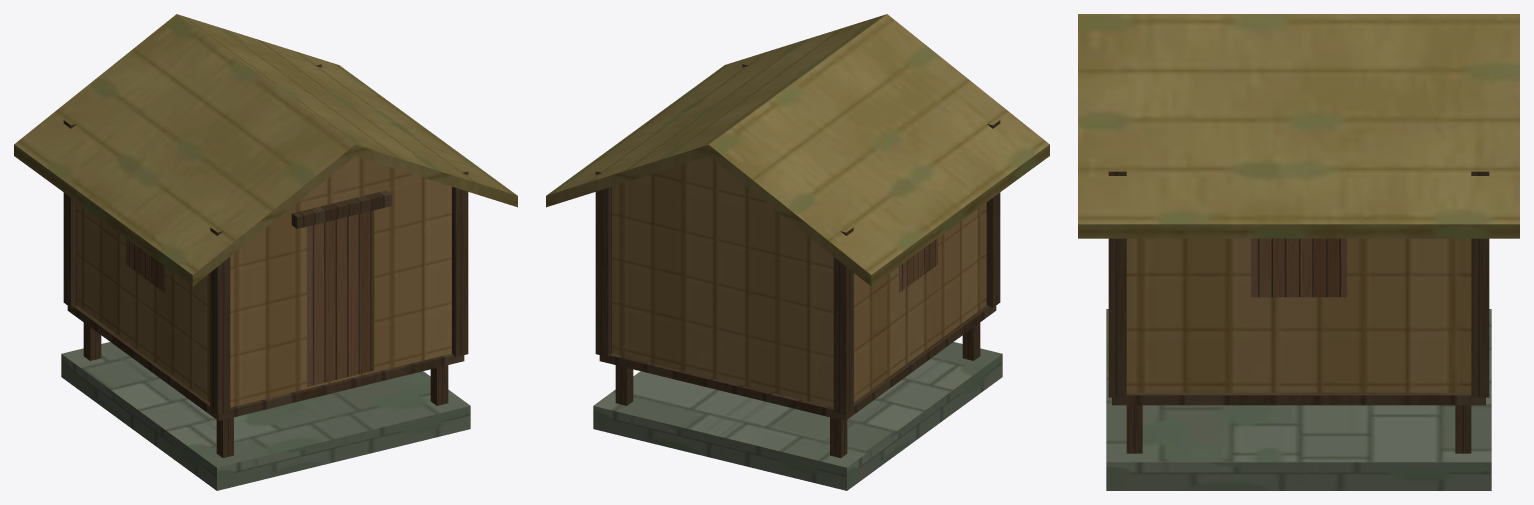
File: ae_jungle_wood_small_hut_lod1.glb
3 renders of one model, left to right at view 1: azimuth 30°, elevation 25°; view 2: azimuth 150°, elevation 25°; view 3: azimuth 270°, elevation 25°, orthographic. The views are drawn at different scales.
Visible parts, largest first — view 1: ae_jungle_wood_small_hut_lod1; view 2: ae_jungle_wood_small_hut_lod1; view 3: ae_jungle_wood_small_hut_lod1.
Part boxes in pixels (x1,y1,x2,y2): ae_jungle_wood_small_hut_lod1: (14,14,517,490); ae_jungle_wood_small_hut_lod1: (546,14,1049,490); ae_jungle_wood_small_hut_lod1: (1078,14,1519,490).
Bounding box in the file's own units: 4.1 × 3.9 × 3.9.
1 material, 1 textured.
